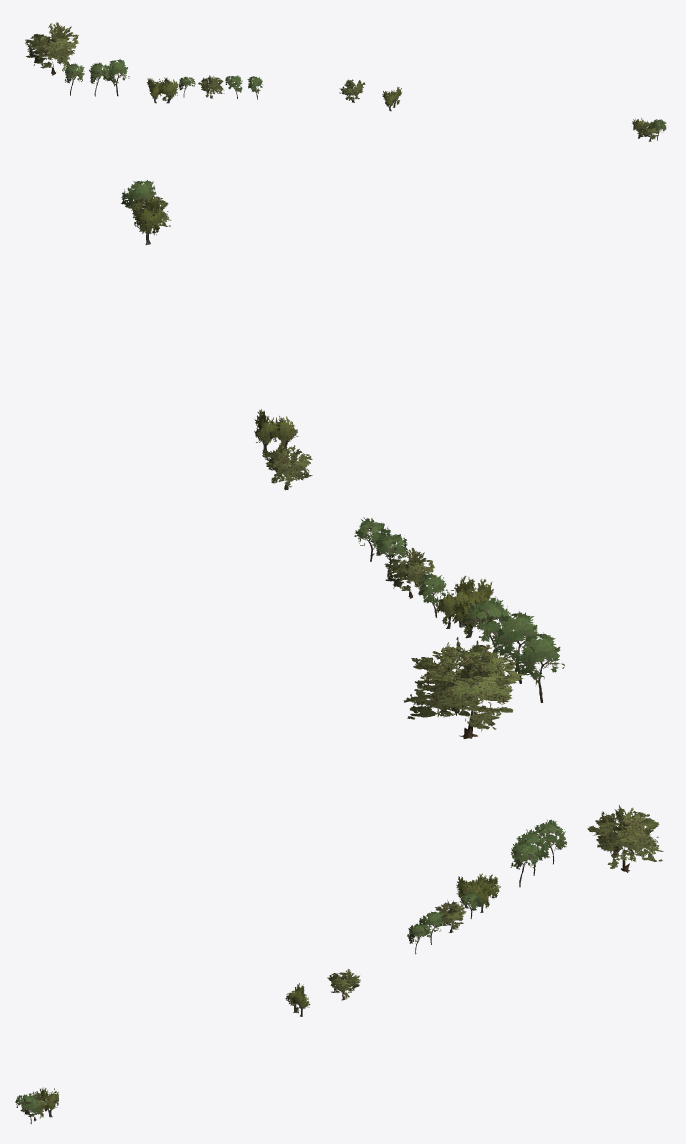
The picture shows the model from 3 angles, top to bottom: view 1: azimuth 30°, elevation 25°; view 2: azimuth 150°, elevation 25°; view 3: azimuth 270°, elevation 25°; orthographic projection. The views are drawn at different scales.
Parts seen in each view (by area): view 1: jacaranda_tree street foliage, tree_small_02 street foliage, island_tree_01 street foliage; view 2: jacaranda_tree street foliage, tree_small_02 street foliage, island_tree_01 street foliage; view 3: jacaranda_tree street foliage, tree_small_02 street foliage, island_tree_01 street foliage.
Part boxes in pixels (left/top/right/bottom): jacaranda_tree street foliage: left=25, top=22, right=660, bottom=139; tree_small_02 street foliage: left=64, top=59, right=666, bottom=132; island_tree_01 street foliage: left=146, top=77, right=644, bottom=134; jacaranda_tree street foliage: left=127, top=193, right=524, bottom=731; tree_small_02 street foliage: left=121, top=180, right=564, bottom=685; island_tree_01 street foliage: left=134, top=196, right=498, bottom=635; jacaranda_tree street foliage: left=20, top=805, right=663, bottom=1118; tree_small_02 street foliage: left=15, top=819, right=566, bottom=1114; island_tree_01 street foliage: left=40, top=873, right=500, bottom=1111.
Bounding box in the file's own units: 117 × 12.38 × 116.
Materials: 6 (6 with a texture image).
